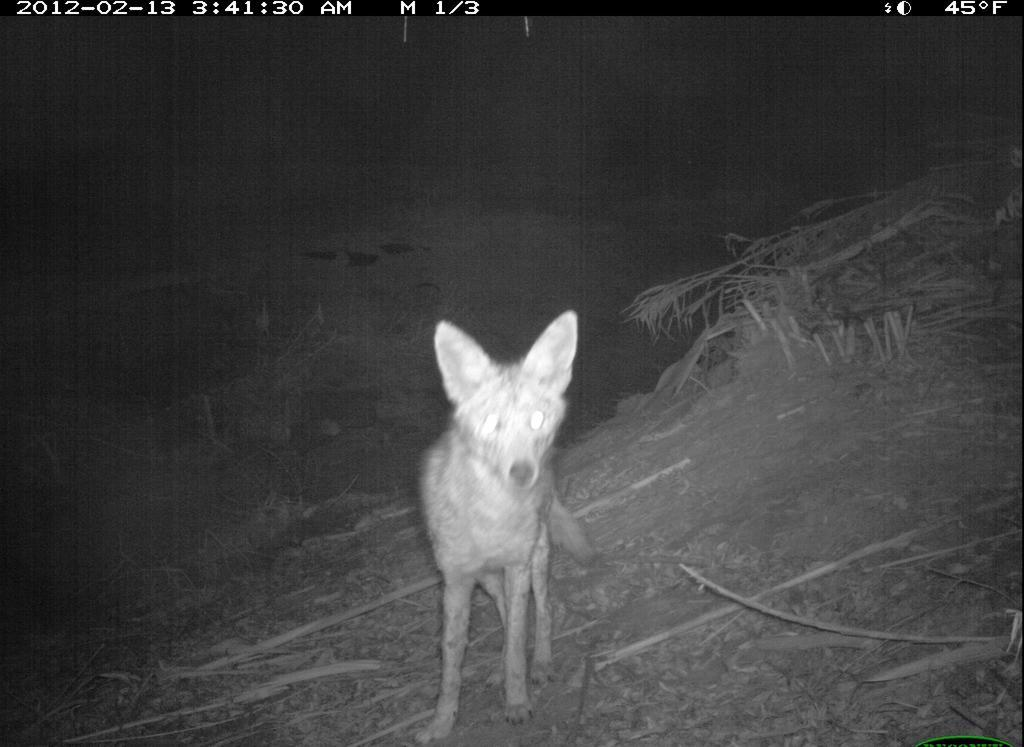coyote: (382, 300, 602, 747)
